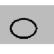no answer: (7, 17, 39, 40)
